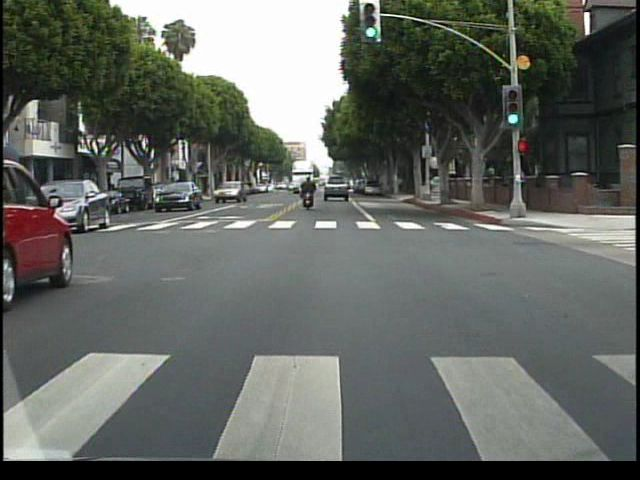car: (1, 152, 77, 302), (48, 181, 113, 228), (152, 175, 203, 213), (324, 172, 351, 201)
striscie pedonali: (5, 347, 632, 458), (102, 219, 521, 232)
